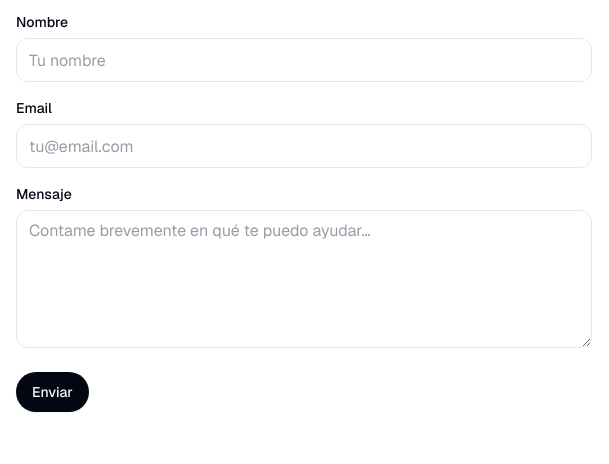
Test case: ContactForm › muestra error si la API devuelve status no-ok
Type "Juan" into the field labelled "Nombre" at (304, 60), box [16, 38, 592, 82]
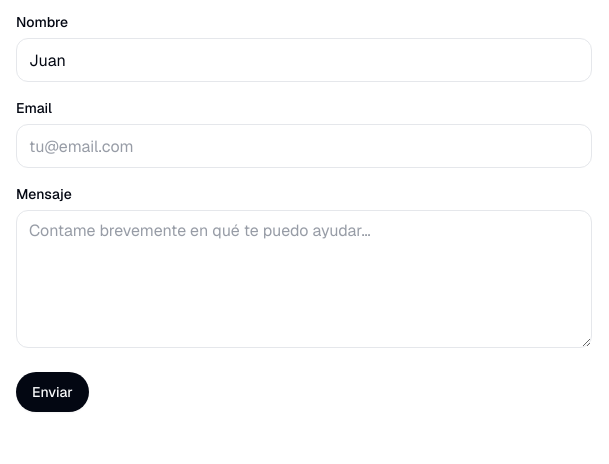
Type "juan@example.com" into the field labelled "Email" at (304, 146), box [16, 124, 592, 168]
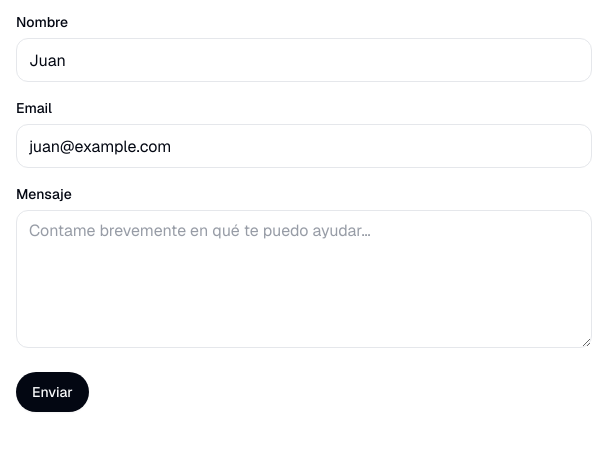
Type "Este es un mensaje válido de prueba." into the text box labelled "Mensaje" at (304, 279), box [16, 210, 592, 348]
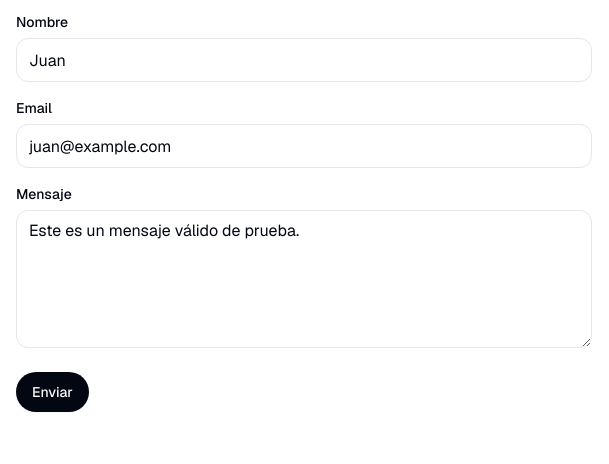
Click the button "Enviar" at (52, 392), box [16, 372, 89, 412]
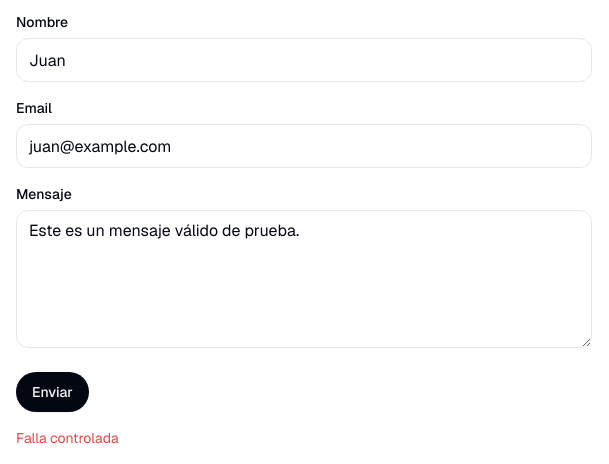
Check: the text "Falla controlada" is shown, box [16, 429, 119, 447]
